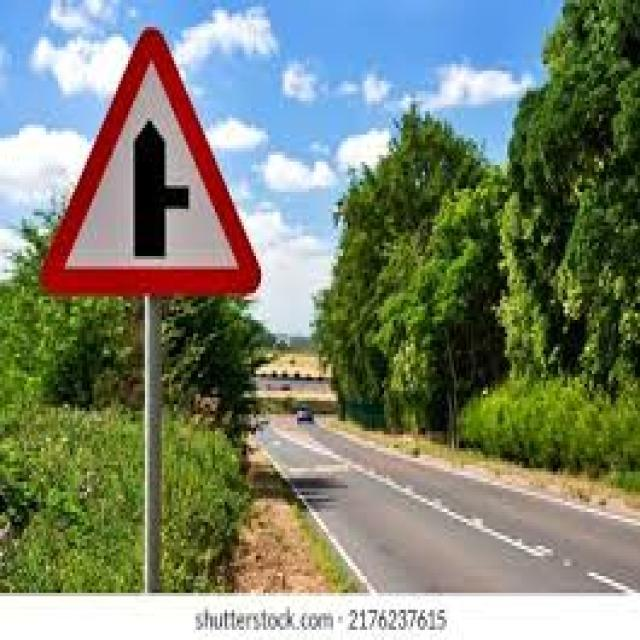side road right: (42, 24, 262, 295)
